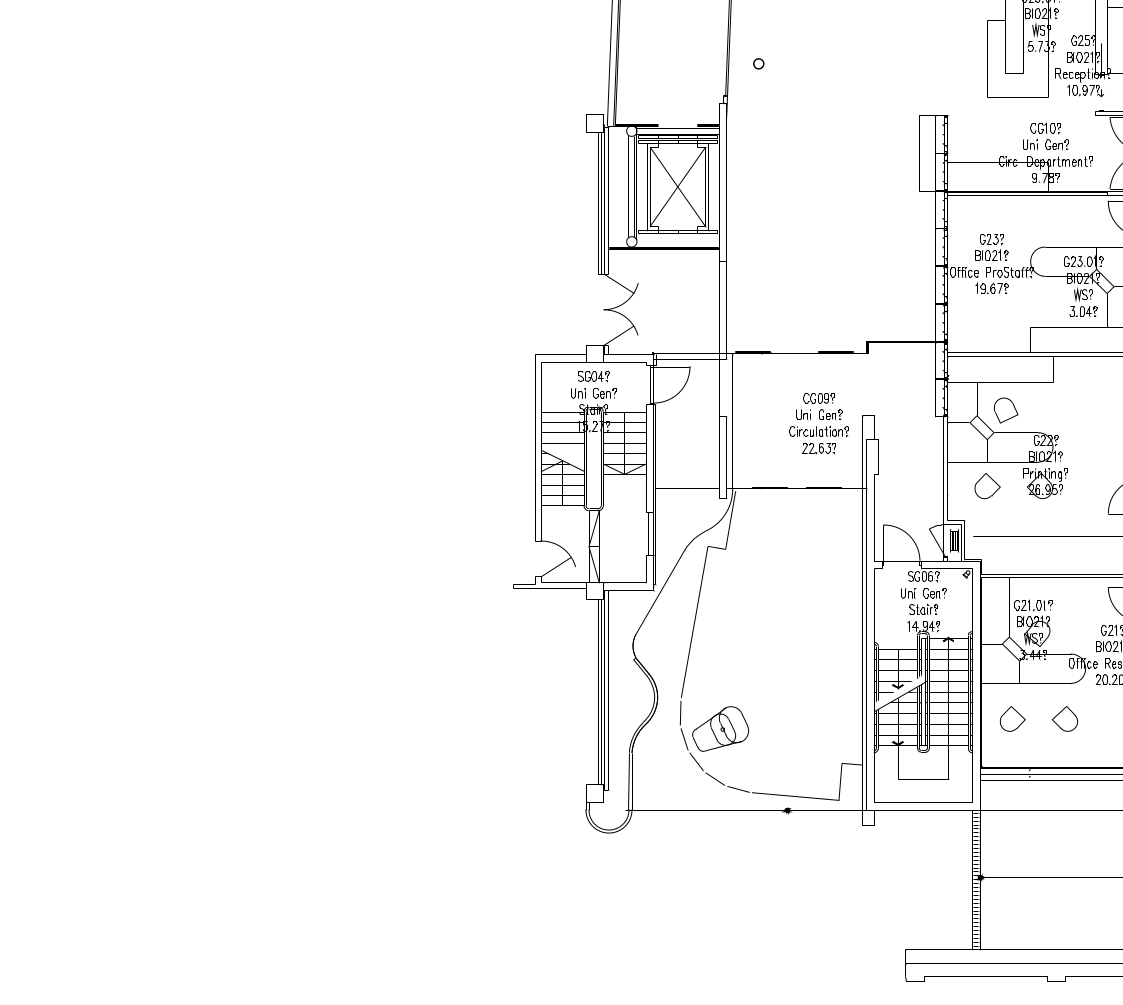door: (596, 274, 645, 346), (655, 362, 701, 407), (537, 536, 583, 581), (880, 519, 926, 564), (1097, 480, 1123, 524), (1097, 581, 1123, 625), (1097, 198, 1123, 242)
